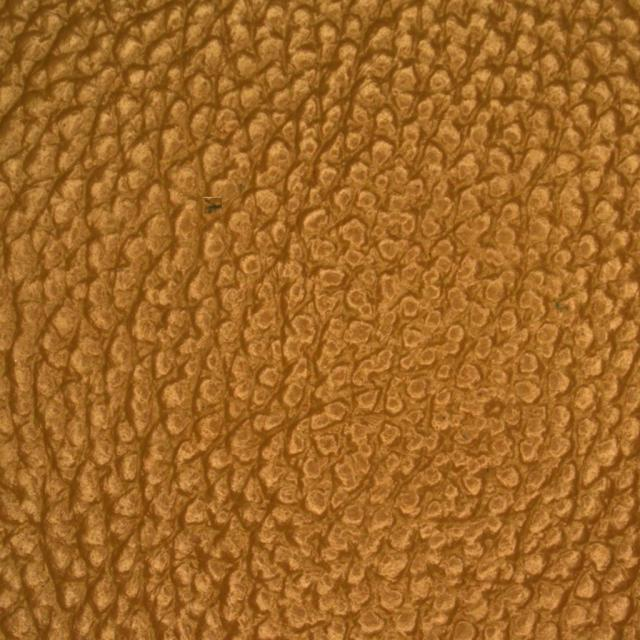pinhole: (135, 123, 294, 283)
